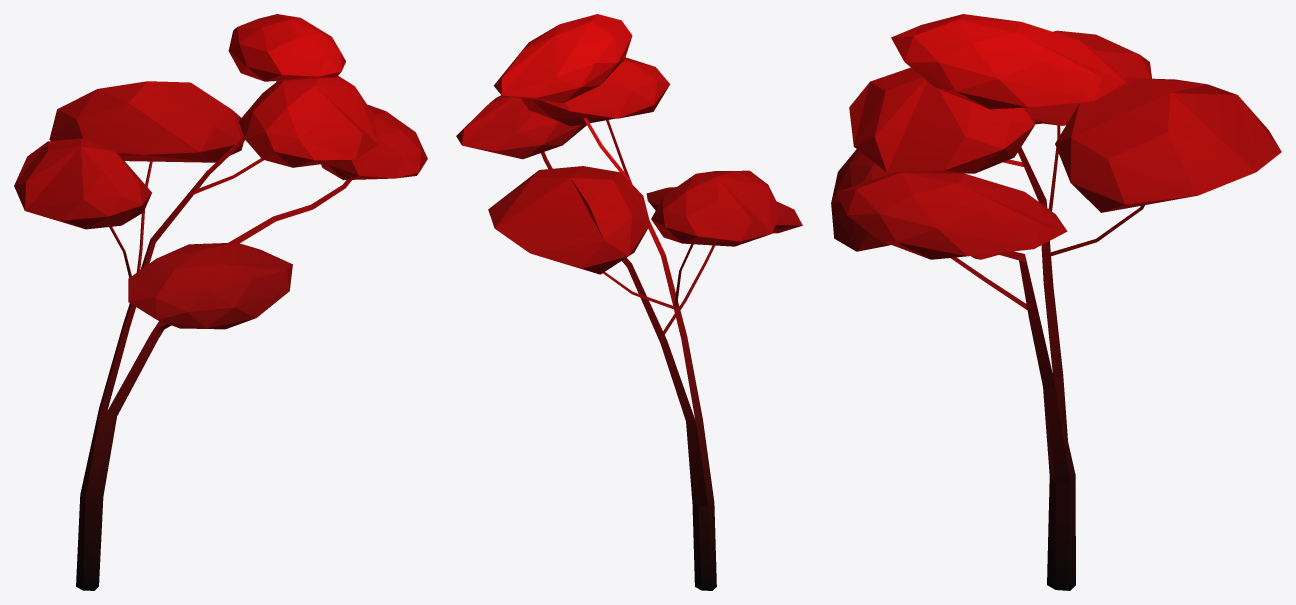
The model's file is TreeCedar04.fbx.
The picture shows the model from 3 angles, left to right: view 1: azimuth 30°, elevation 25°; view 2: azimuth 150°, elevation 25°; view 3: azimuth 270°, elevation 25°; orthographic projection. The views are drawn at different scales.
Visible parts, largest first — view 1: TreeCedar04_LOD0; view 2: TreeCedar04_LOD0; view 3: TreeCedar04_LOD0.
Part boxes in pixels (<box>): TreeCedar04_LOD0: <box>14,14,427,590</box>; TreeCedar04_LOD0: <box>456,14,802,590</box>; TreeCedar04_LOD0: <box>831,14,1281,590</box>.
Size of what is drawn, in the model's own units: 542 by 788 by 483.
